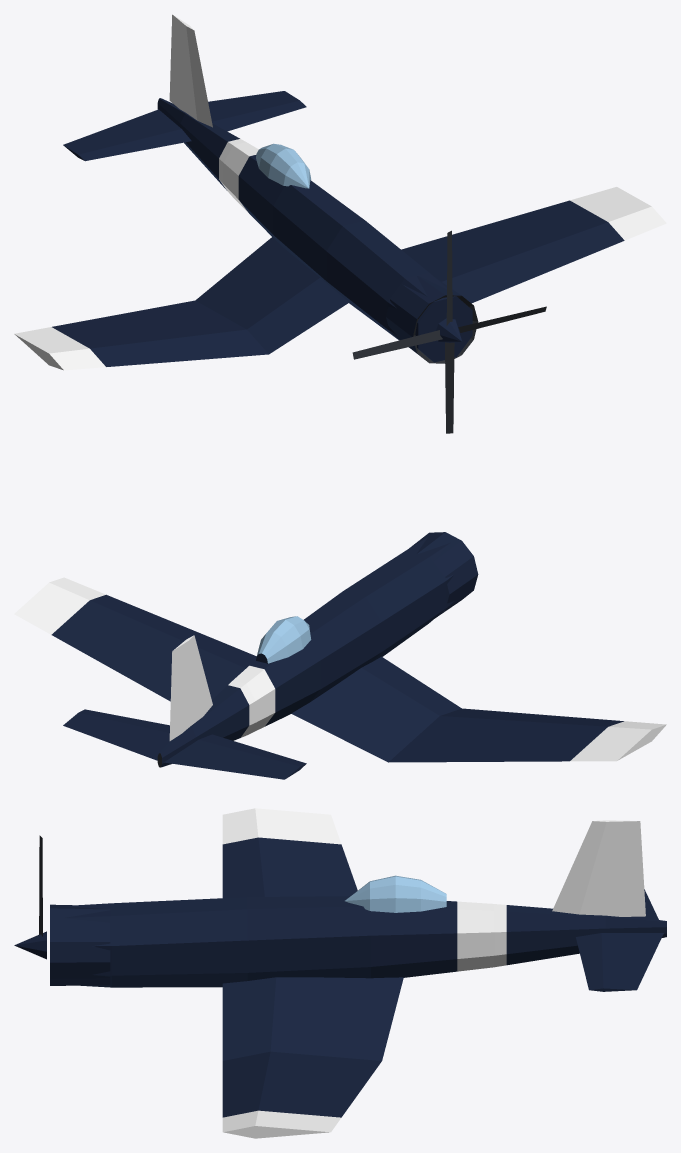
3 renders of one model, top to bottom at view 1: azimuth 30°, elevation 25°; view 2: azimuth 150°, elevation 25°; view 3: azimuth 270°, elevation 25°, orthographic. The views are drawn at different scales.
Parts seen in each view (by area): view 1: body, prop; view 2: body; view 3: body, prop.
Boxes of the visible parts, left/top/right/bottom form: body: left=14, top=14, right=666, bottom=370; prop: left=352, top=230, right=546, bottom=433; body: left=14, top=532, right=666, bottom=779; body: left=50, top=808, right=666, bottom=1138; prop: left=14, top=835, right=46, bottom=959.
Size of the model in its own units: 12.5 by 4.28 by 10.86.
